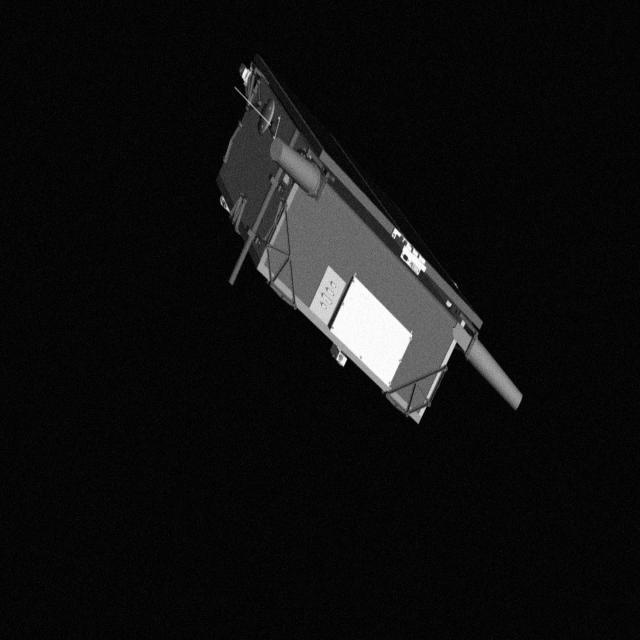satellite: (206, 52, 526, 454)
